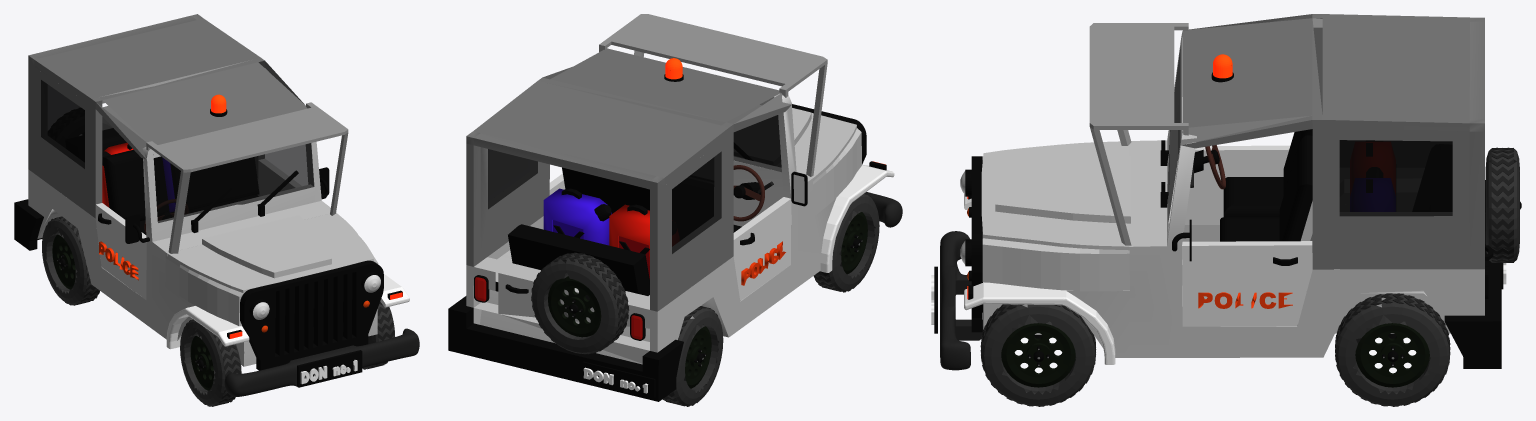
The model's file is policejeep.glb.
3 renders of one model, left to right at view 1: azimuth 30°, elevation 25°; view 2: azimuth 150°, elevation 25°; view 3: azimuth 270°, elevation 25°, orthographic. The views are drawn at different scales.
Parts seen in each view (by area): view 1: BODY, RIGHT FRONT WHEEL, BACK RIGHT WHEEL, LEFT FRONT WHEEL, Cube; view 2: BODY, BACK RIGHT WHEEL, RIGHT FRONT WHEEL, Cube.001, Cube, STEERING WHEEL; view 3: BODY, BACK LEFT WHEEL, LEFT FRONT WHEEL, STEERING WHEEL, Cylinder.
Boxes of the visible parts, box(x1,y1,x2,y2) form: BODY: box(14, 14, 419, 396); RIGHT FRONT WHEEL: box(180, 319, 241, 406); BACK RIGHT WHEEL: box(42, 216, 99, 305); LEFT FRONT WHEEL: box(362, 301, 394, 369); Cube: box(102, 142, 133, 207); BODY: box(448, 14, 902, 401); BACK RIGHT WHEEL: box(662, 306, 723, 406); RIGHT FRONT WHEEL: box(813, 193, 879, 292); Cube.001: box(543, 188, 611, 245); Cube: box(609, 204, 649, 279); STEERING WHEEL: box(733, 165, 764, 221); BODY: box(931, 14, 1521, 370); BACK LEFT WHEEL: box(1335, 293, 1450, 406); LEFT FRONT WHEEL: box(980, 304, 1096, 406); STEERING WHEEL: box(1203, 145, 1225, 189); Cylinder: box(1211, 54, 1233, 82).
Size of the model in its own units: 2.06 by 2.28 by 4.05.
